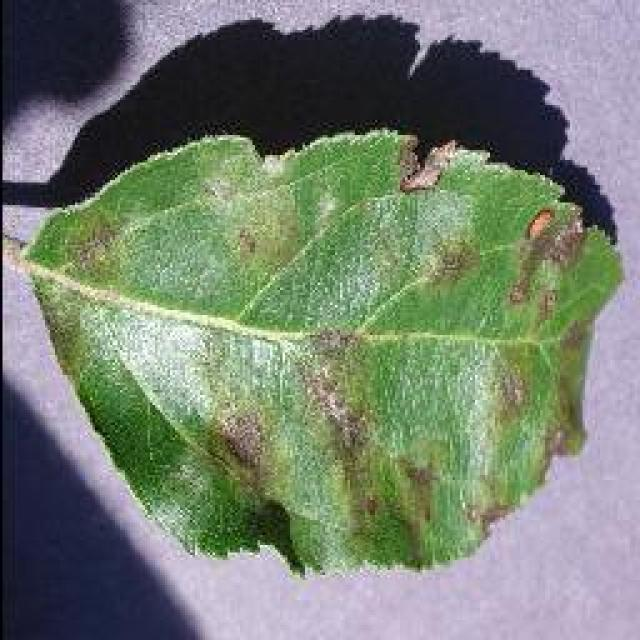apple scab disease: (15, 122, 625, 578)
